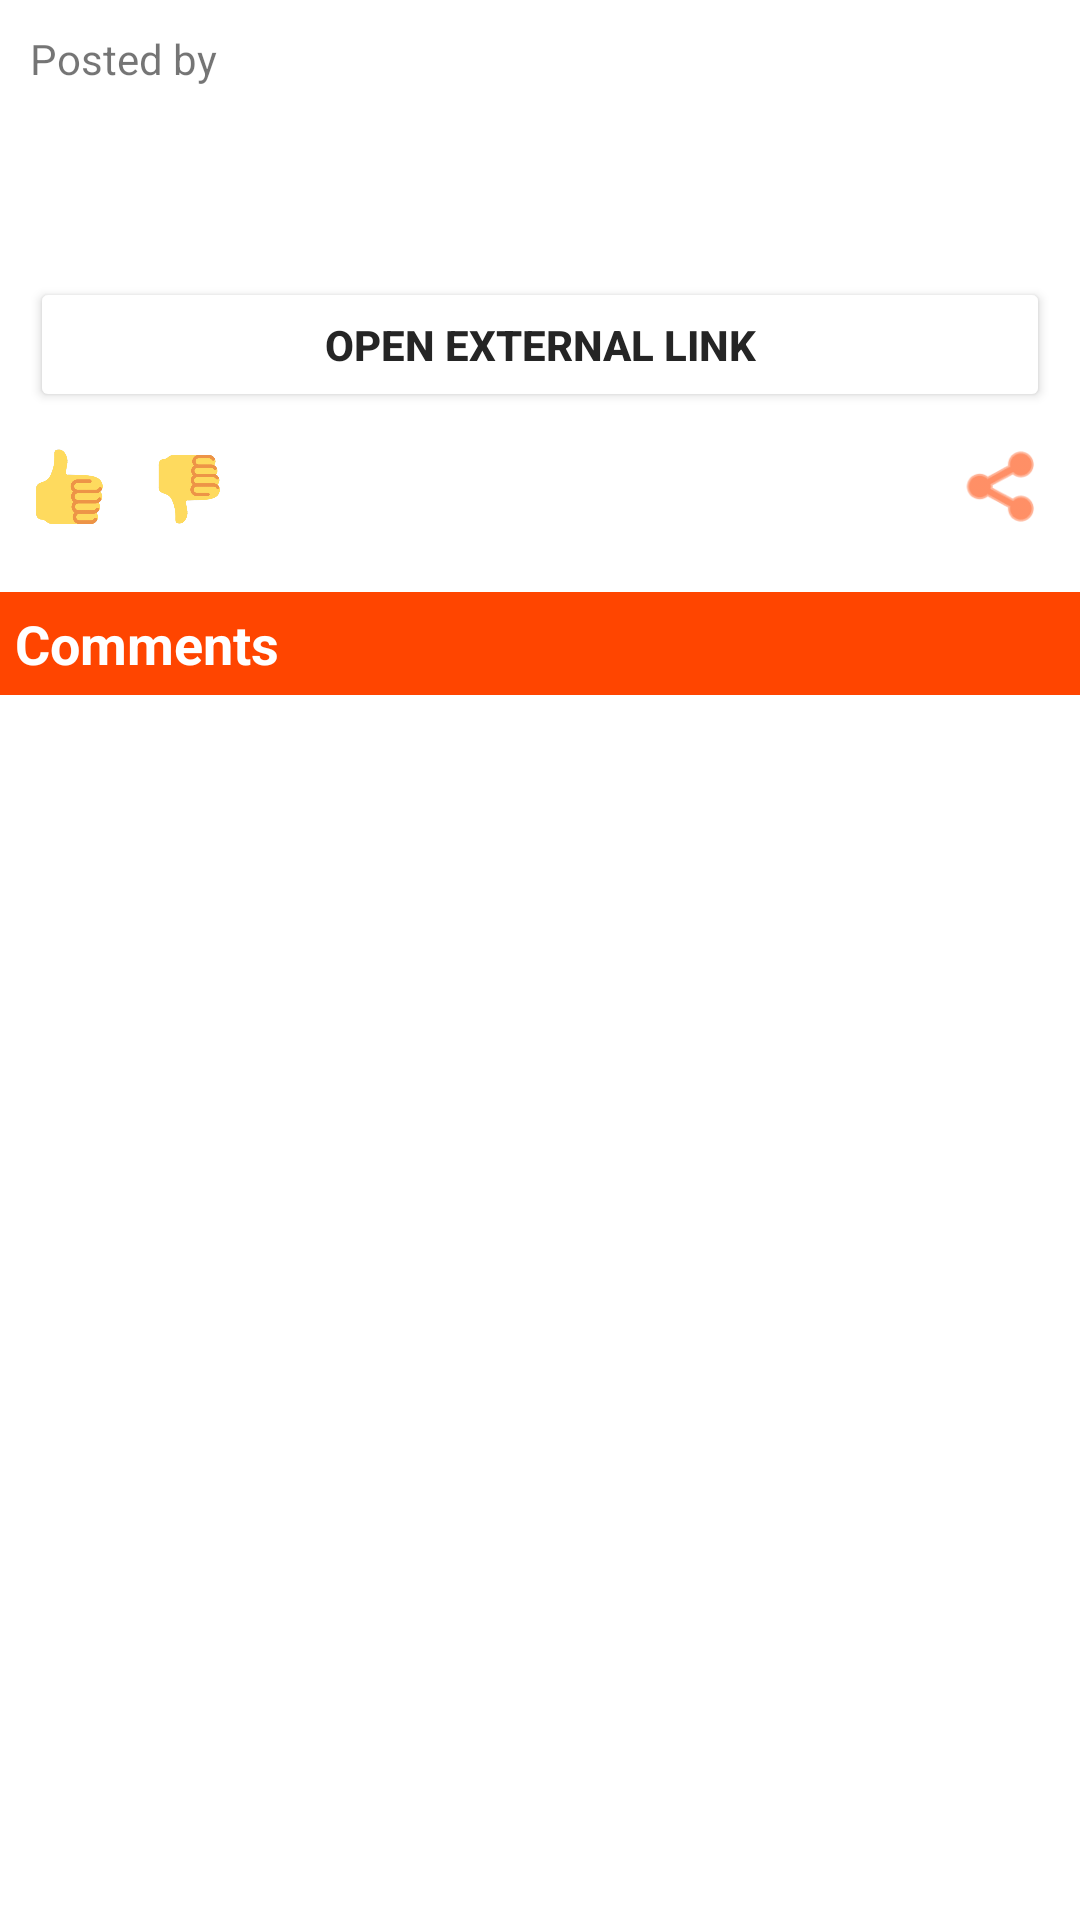

Screen size 1080*1920. Icon name, then its box in pixels as (x1, y1, x2, y2):
share: (966, 451, 1034, 522)
tdown: (159, 455, 220, 524)
tup: (36, 449, 103, 524)
